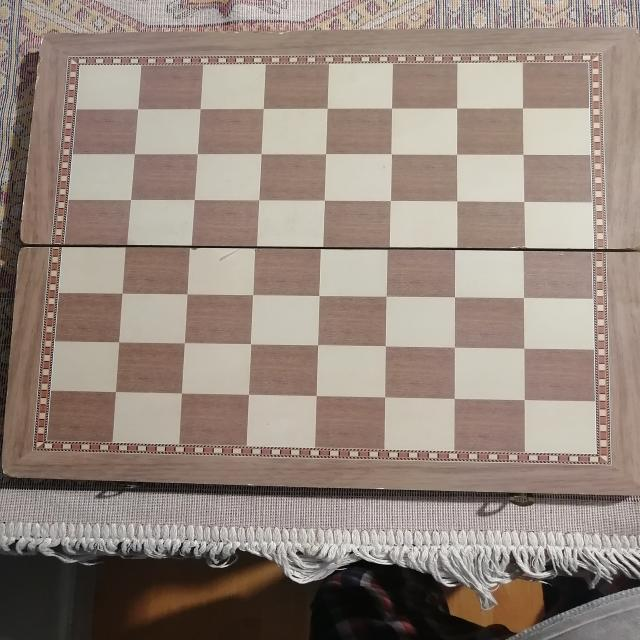corners: (32, 25, 58, 47), (625, 484, 640, 504), (626, 26, 640, 41), (2, 469, 14, 482)
